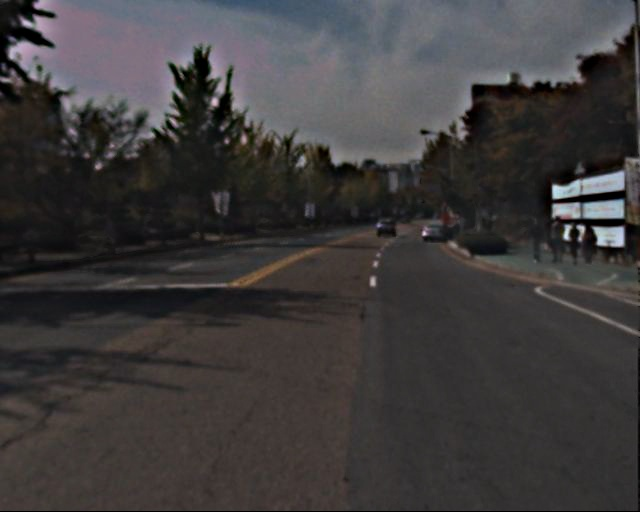person: (549, 216, 569, 263), (580, 220, 599, 268), (566, 220, 585, 264), (529, 218, 547, 261)
